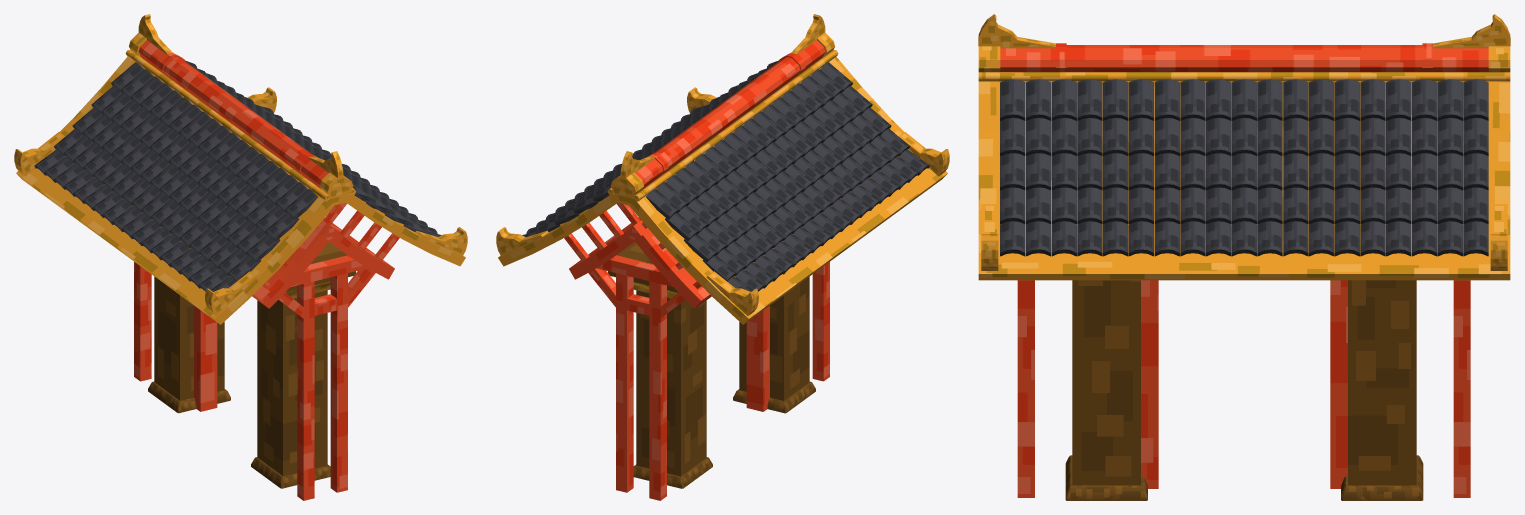
File: PuertaTemplo.FBX
3 views of the same model, side by side, from view 1: azimuth 30°, elevation 25°; view 2: azimuth 150°, elevation 25°; view 3: azimuth 270°, elevation 25° (orthographic). The views are drawn at different scales.
Visible parts, largest first — view 1: Tejas005, Maderas006, PuertaTemplo, Dorado005, Viga005; view 2: Tejas005, Maderas006, Dorado005, PuertaTemplo, Viga005; view 3: Tejas005, Dorado005, PuertaTemplo, Maderas006, Viga005.
Part boxes in pixels (bbox=[...]): Tejas005: bbox=[34, 60, 441, 291]; Maderas006: bbox=[134, 203, 399, 500]; PuertaTemplo: bbox=[148, 242, 355, 488]; Dorado005: bbox=[14, 14, 467, 324]; Viga005: bbox=[138, 40, 328, 188]; Tejas005: bbox=[522, 60, 929, 291]; Maderas006: bbox=[564, 203, 829, 500]; Dorado005: bbox=[496, 14, 949, 324]; PuertaTemplo: bbox=[608, 242, 815, 488]; Viga005: bbox=[635, 40, 825, 188]; Tejas005: bbox=[1000, 79, 1488, 256]; Dorado005: bbox=[978, 14, 1510, 280]; PuertaTemplo: bbox=[1065, 280, 1423, 500]; Maderas006: bbox=[1017, 280, 1470, 497]; Viga005: bbox=[1000, 43, 1488, 71].
Size of the model in its own units: 4.61 by 6.02 by 6.2.
6 materials, 6 textured.
